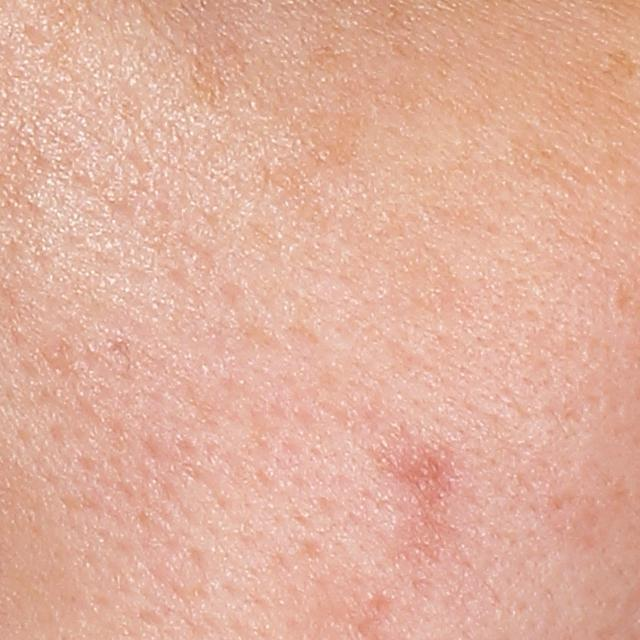melasma: (184, 35, 248, 121), (599, 51, 637, 82)
